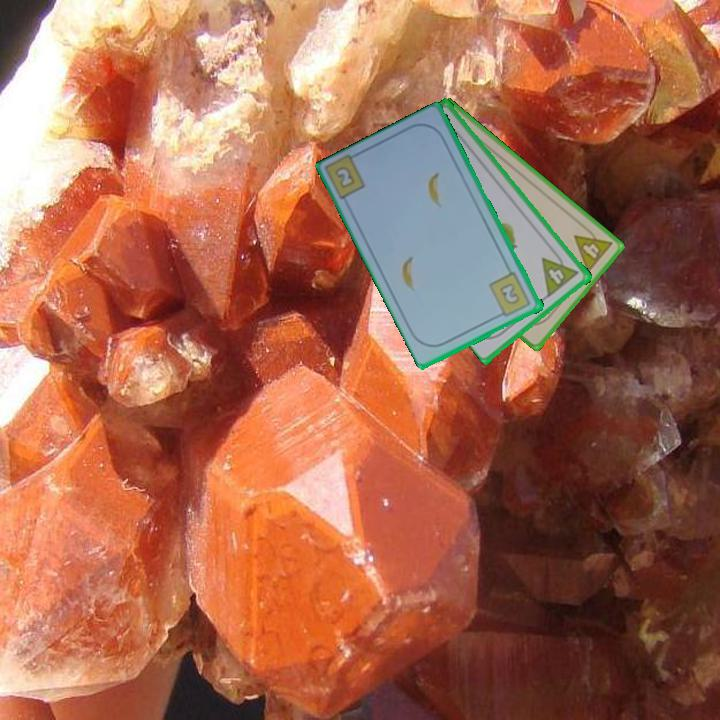2b: (486, 269, 534, 321), (331, 163, 358, 192)
4p: (570, 221, 616, 276), (538, 247, 582, 299)
